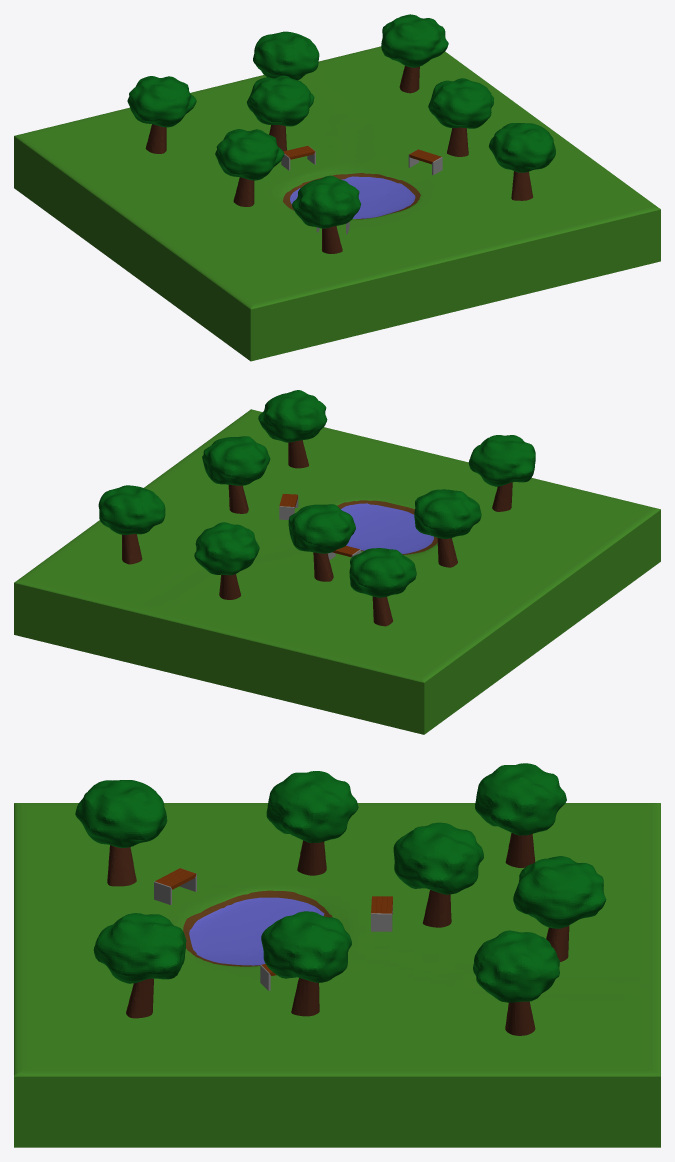
File: park tile.fbx
3 views of the same model, one above another, from view 1: azimuth 30°, elevation 25°; view 2: azimuth 150°, elevation 25°; view 3: azimuth 270°, elevation 25° (orthographic). The views are drawn at different scales.
Visible parts, largest first — view 1: Cube, accessories; view 2: Cube, accessories; view 3: Cube, accessories.
Part boxes in pixels (x1,y1,x2,y2): Cube: [14, 46, 660, 361]; accessories: [127, 14, 555, 253]; Cube: [14, 409, 660, 734]; accessories: [98, 390, 535, 626]; Cube: [14, 803, 660, 1147]; accessories: [75, 763, 606, 1035].
Bounding box in the file's own units: 800 × 226 × 800.
